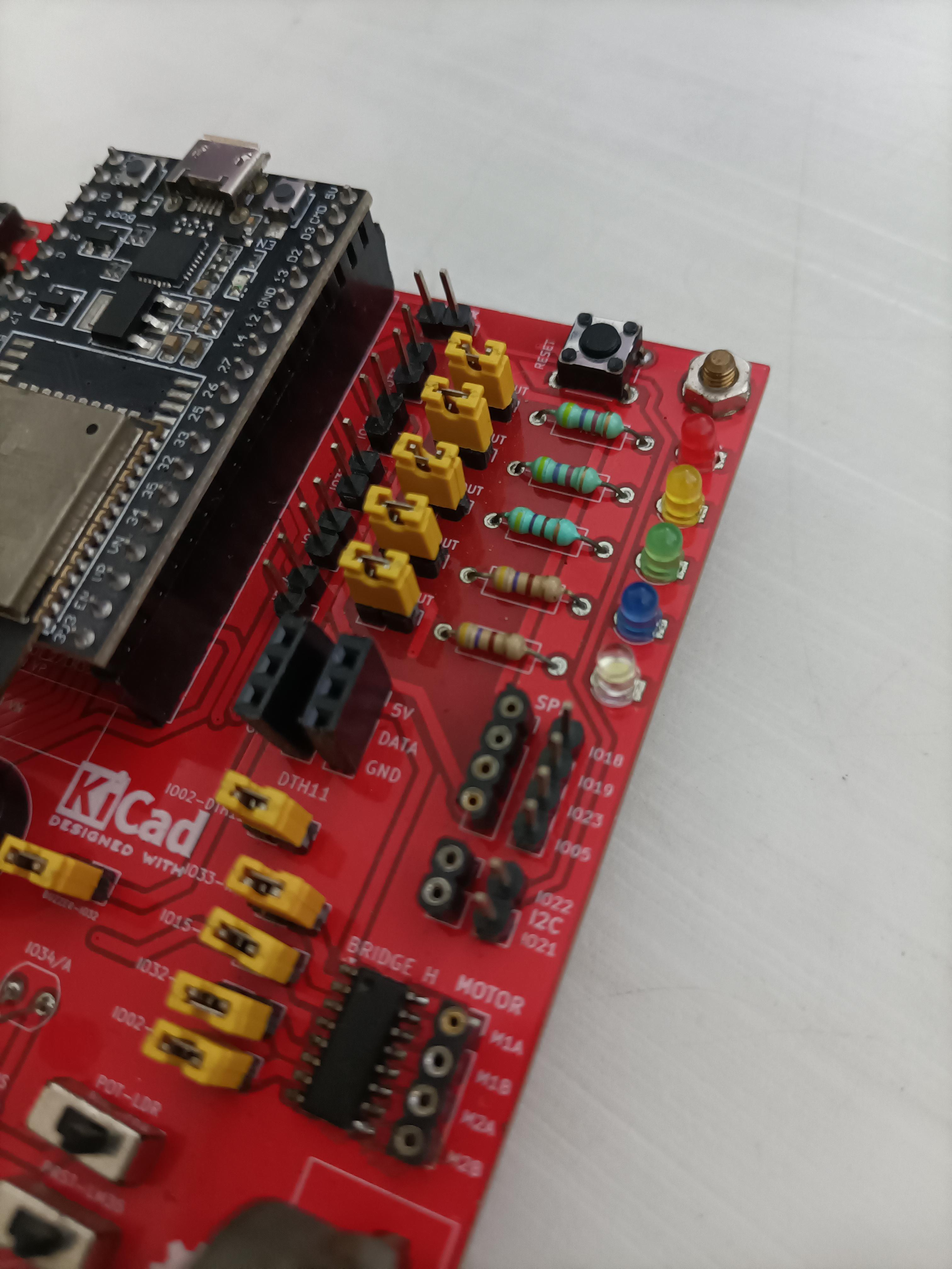LED: (581, 639, 652, 706), (612, 574, 678, 642), (640, 510, 698, 587), (660, 459, 715, 526), (677, 411, 726, 467)
Resistencia: (518, 446, 629, 482), (451, 608, 562, 644), (544, 392, 655, 428), (495, 497, 605, 533), (481, 551, 591, 587)
